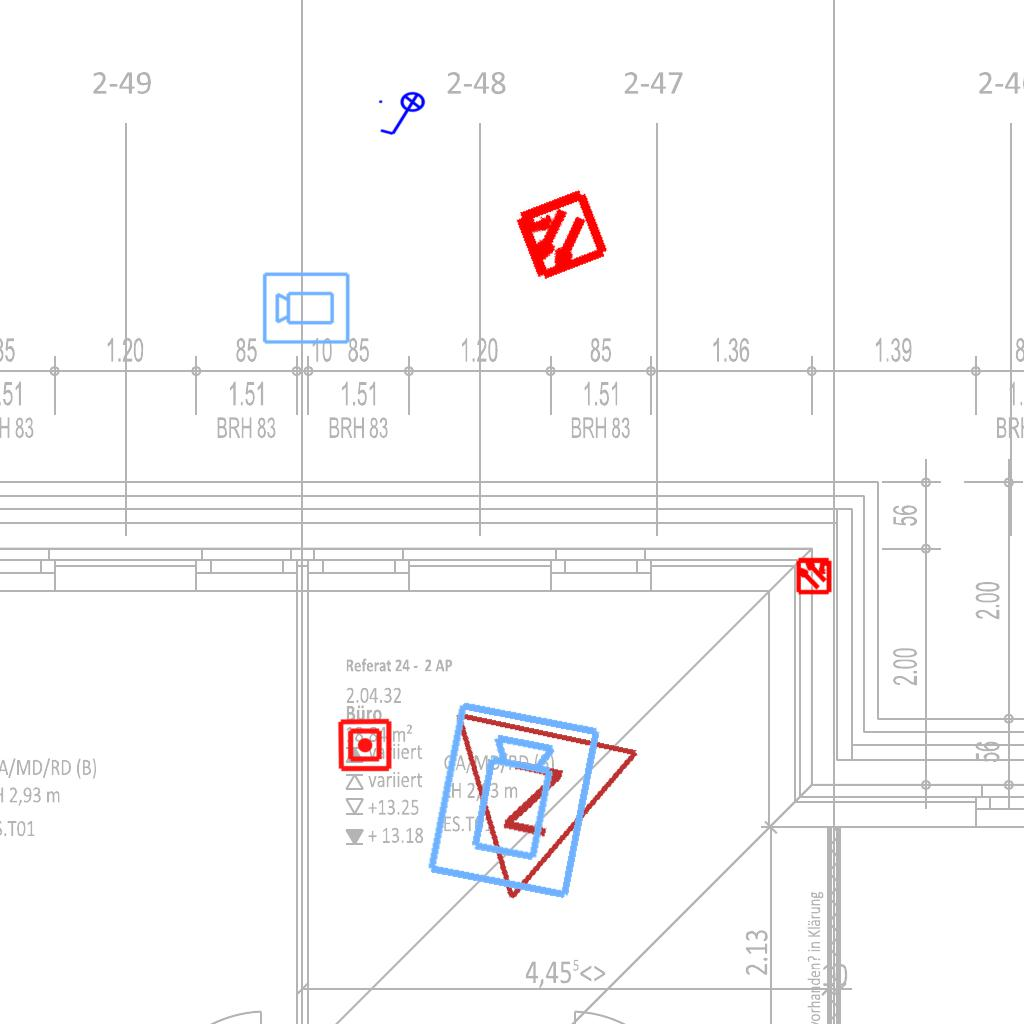Ausschalter_beleuchtet: (376, 91, 432, 139)
KFO_Kamera_mit_Festobjektiv: (422, 696, 608, 906), (261, 269, 352, 346)
NAM-Nichtautomatischer_Melder: (337, 717, 393, 773)
OT_Multisensormelder_(Kombination_RMO_WMD): (486, 162, 633, 309), (786, 547, 842, 603)
Zimmersignalleuchte: (415, 696, 649, 934)
